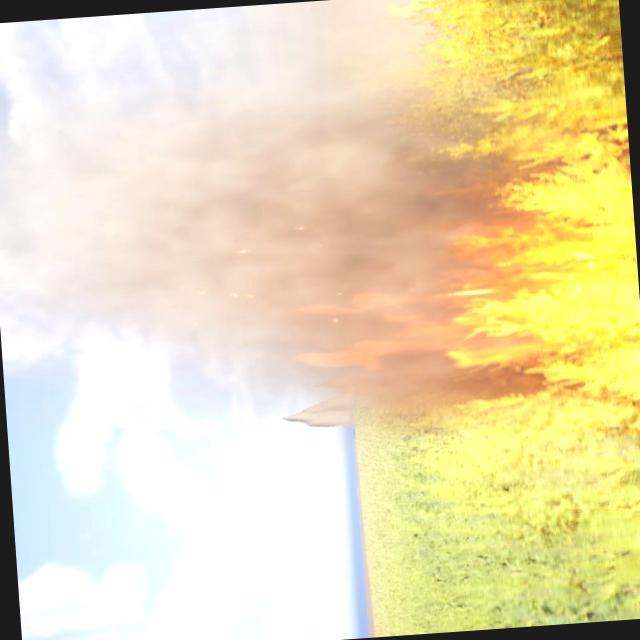fire: (289, 202, 636, 379)
smoke: (0, 0, 567, 444)
